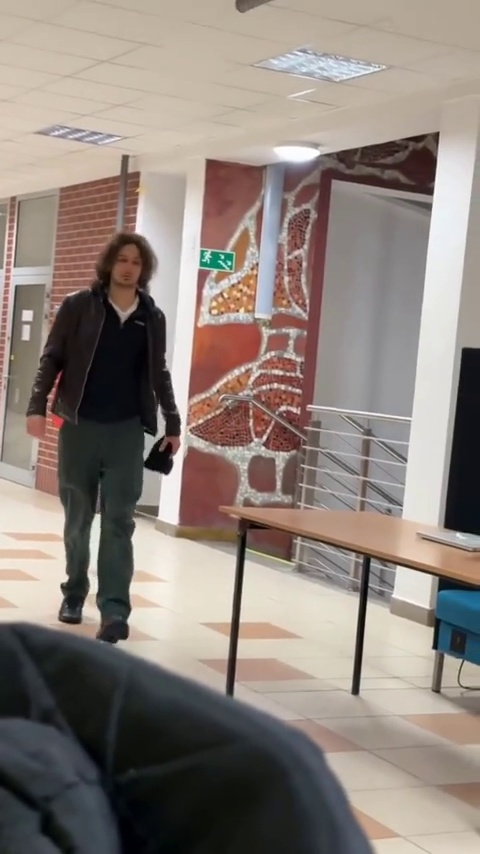no vest: (33, 228, 183, 648)
